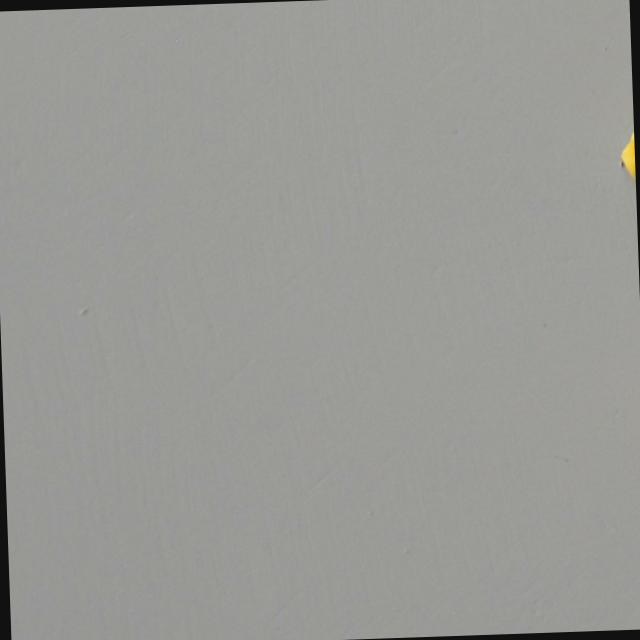punto_negro: (617, 100, 636, 193)
